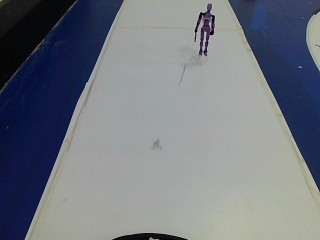pedestrian: (192, 1, 218, 61)
